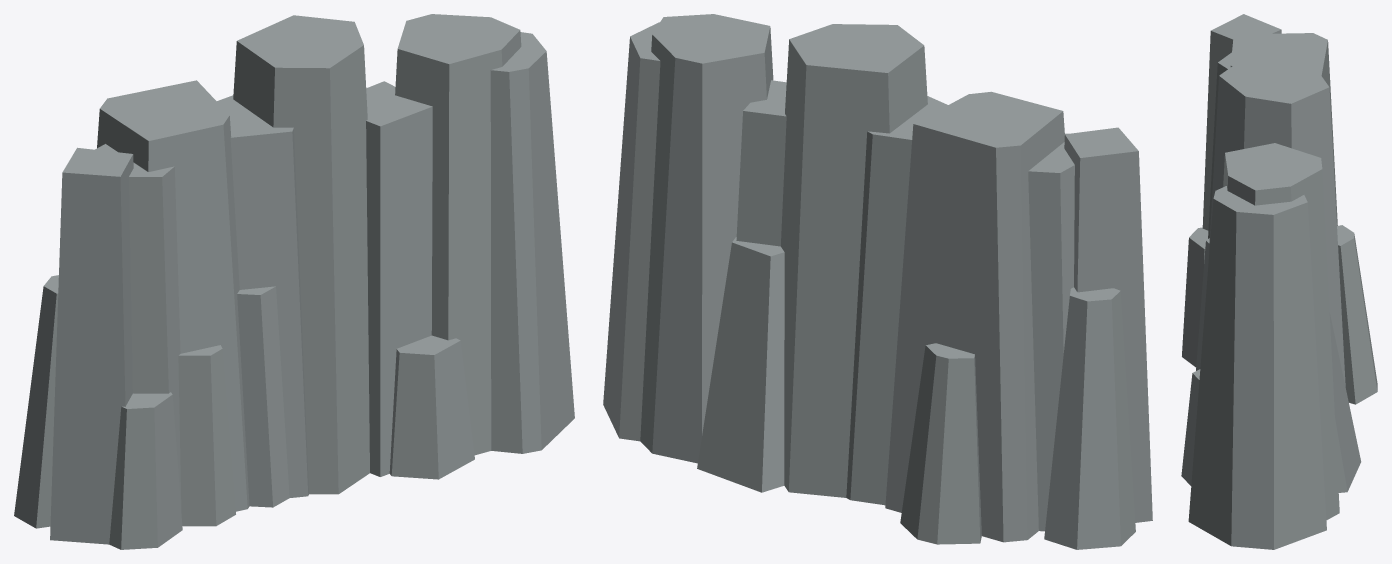
File: NHP_Rock_Wall_Curved_A1_03.fbx
3 views of the same model, side by side, from view 1: azimuth 30°, elevation 25°; view 2: azimuth 150°, elevation 25°; view 3: azimuth 270°, elevation 25° (orthographic). The views are drawn at different scales.
Parts seen in each view (by area): view 1: NHP_Rock_Wall_Curved_A1_03; view 2: NHP_Rock_Wall_Curved_A1_03; view 3: NHP_Rock_Wall_Curved_A1_03.
Part boxes in pixels (x1,y1,x2,y2): NHP_Rock_Wall_Curved_A1_03: (14,14,574,549); NHP_Rock_Wall_Curved_A1_03: (603,14,1152,549); NHP_Rock_Wall_Curved_A1_03: (1181,14,1377,549).
Size of the model in its own units: 16.96 by 12.77 by 6.25.
